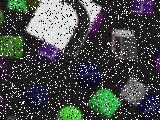Left: (25, 0, 102, 58)
